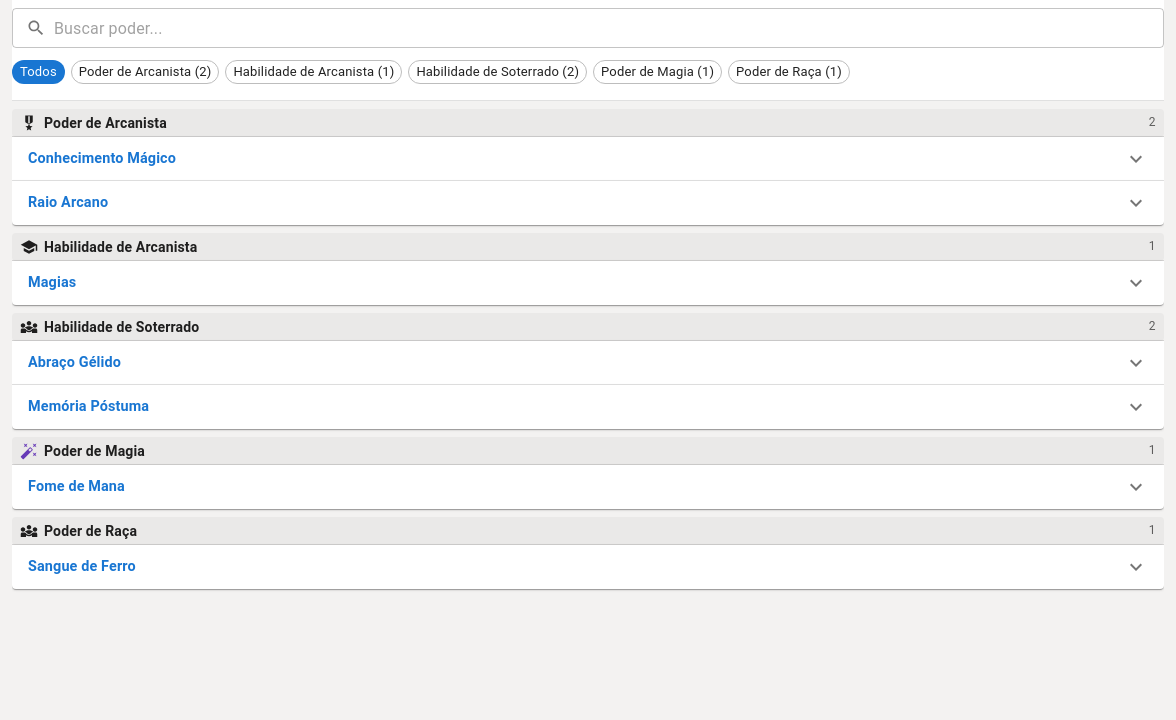
Test: PowersDisplay › filtra por origem ao clicar num chip
The width and height of the screenshot is (1176, 720).
Click the button "Poder de Arcanista (2)" at {"x": 145, "y": 72}, box [71,60,220,84]
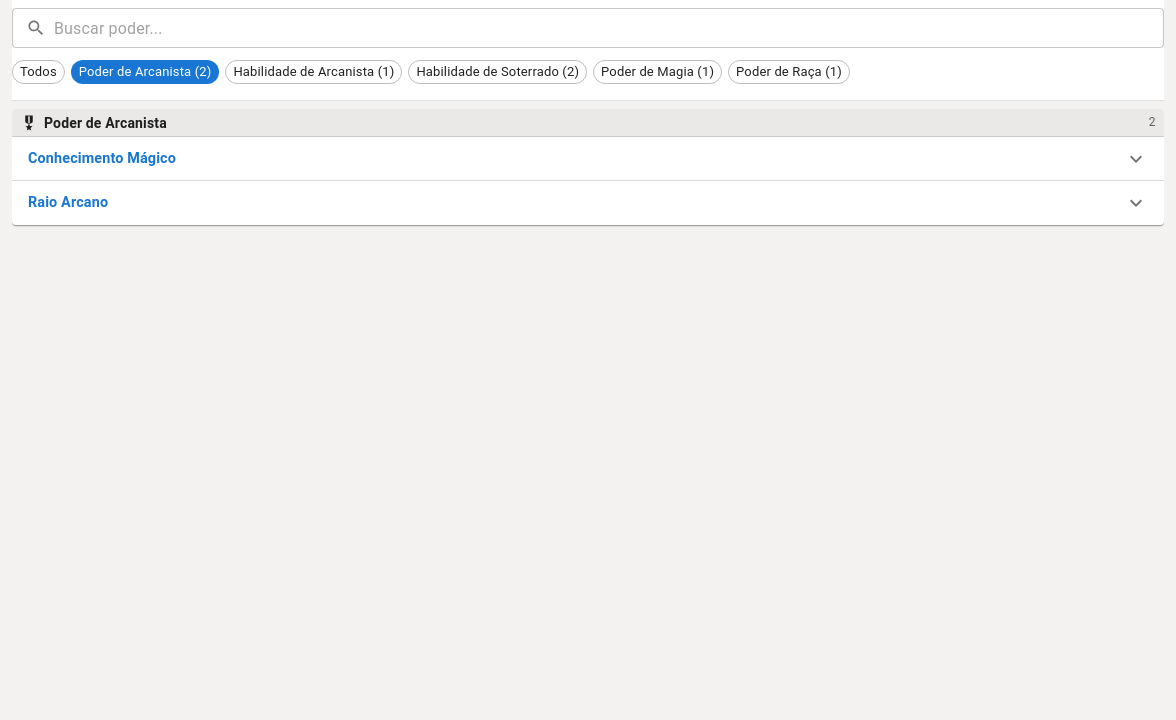
Expected: the text "Raio Arcano" is shown, [28,194,108,211]
Result: the button "Abraço Gélido" is gone
Click the button "Todos" at {"x": 38, "y": 72}, box [12,60,65,84]
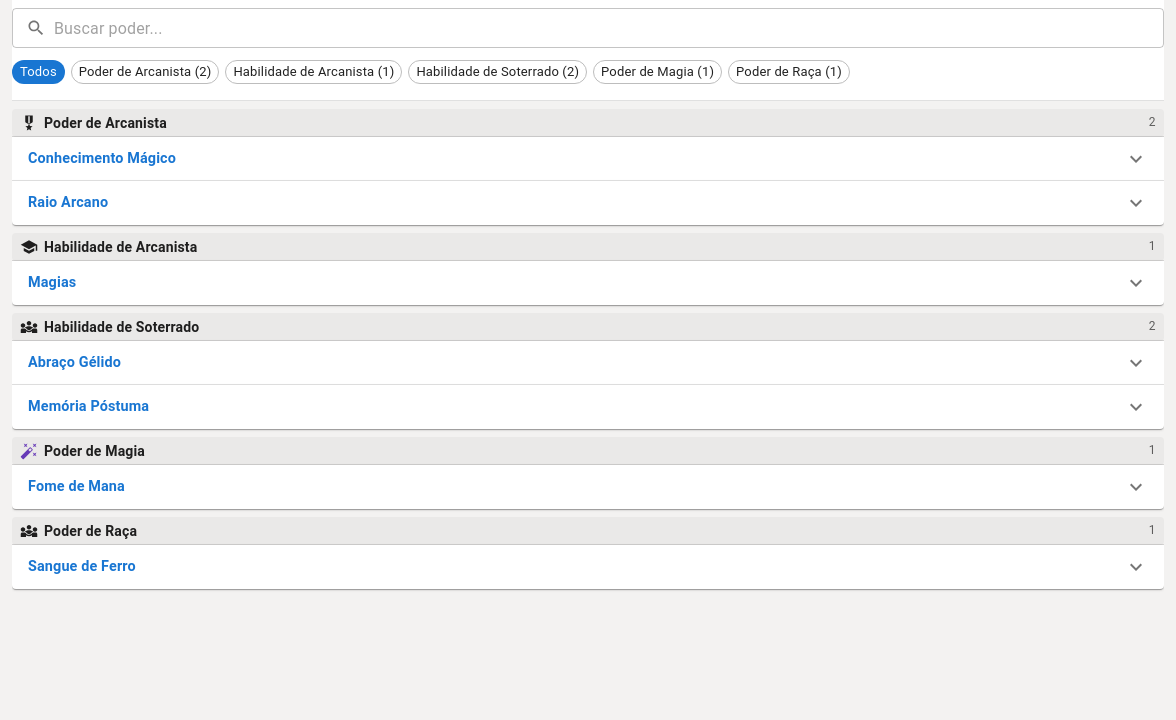
Result: the text "Abraço Gélido" is shown at [28,354,121,371]
